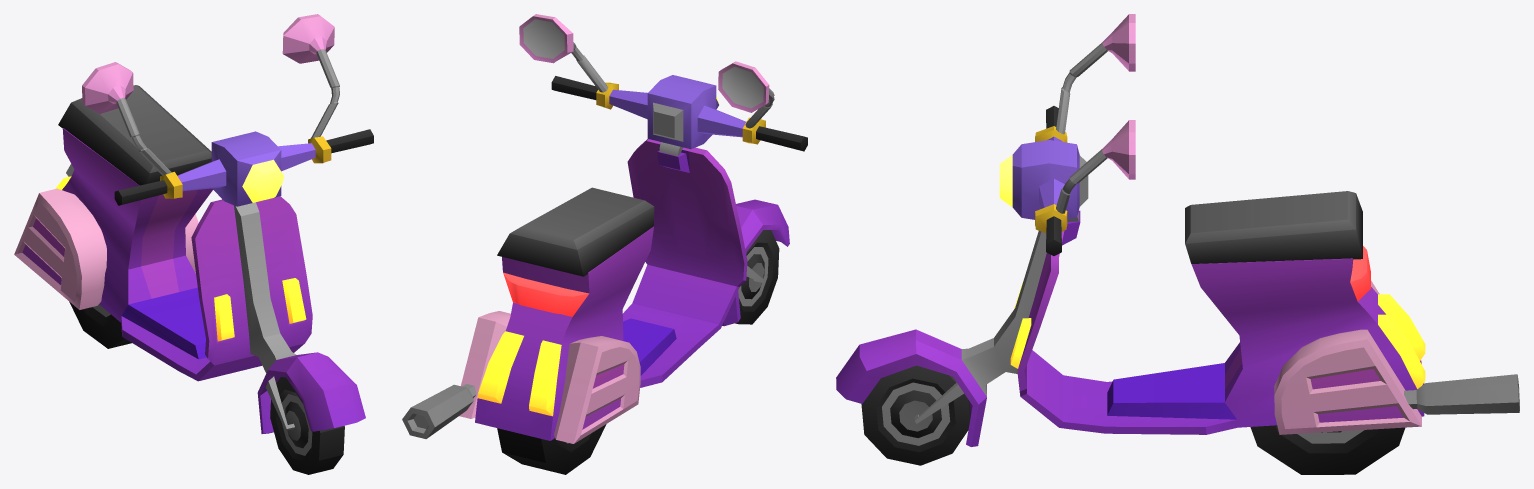
The model's file is glb7.glb.
The picture shows the model from 3 angles, left to right: view 1: azimuth 30°, elevation 25°; view 2: azimuth 150°, elevation 25°; view 3: azimuth 270°, elevation 25°; orthographic projection. The views are drawn at different scales.
Parts seen in each view (by area): view 1: Bike; view 2: Bike; view 3: Bike.
Part boxes in pixels (x1,y1,x2,y2): Bike: (14, 14, 373, 474); Bike: (402, 14, 807, 474); Bike: (836, 14, 1519, 474).
Size of the model in its own units: 1.34 by 1.82 by 2.88.
1 material, 1 textured.
